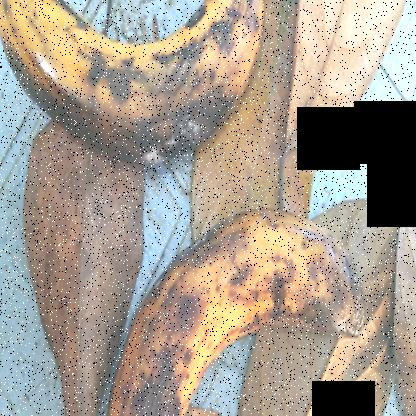overripe: (11, 203, 380, 415), (1, 0, 284, 178)
